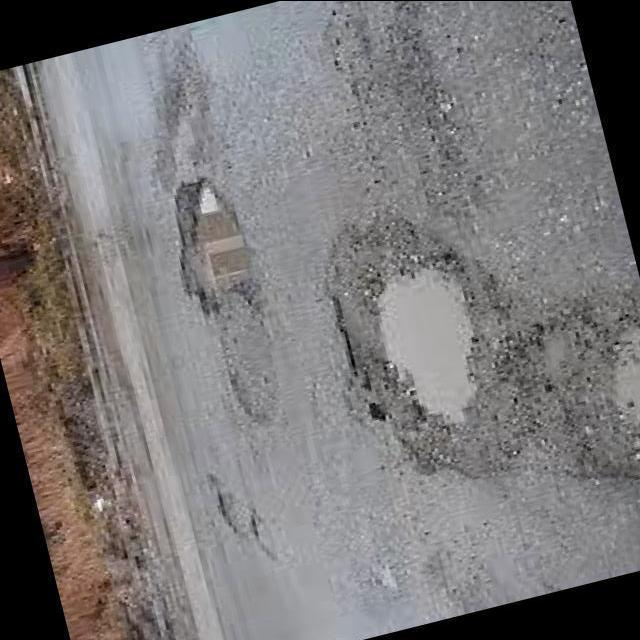pothole: (378, 267, 482, 419), (180, 177, 247, 297), (591, 317, 640, 431)
